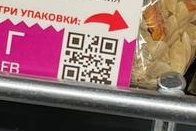2d: (57, 30, 119, 86)
